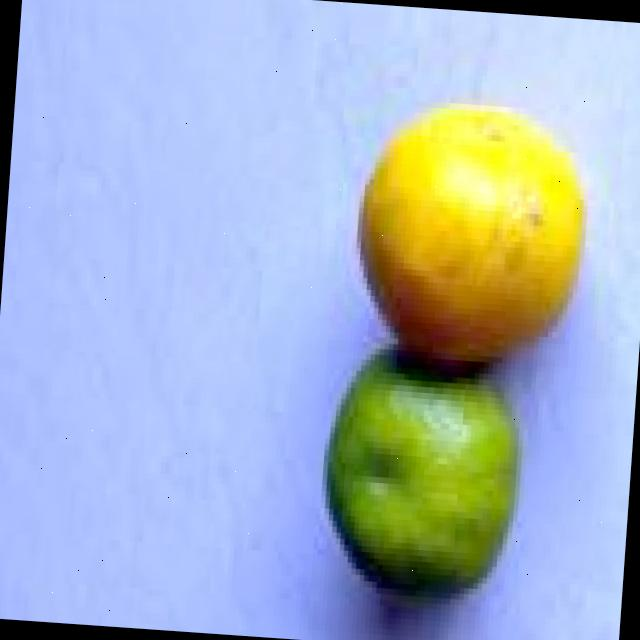Good_Orange-15-21 days: (323, 96, 593, 603)
